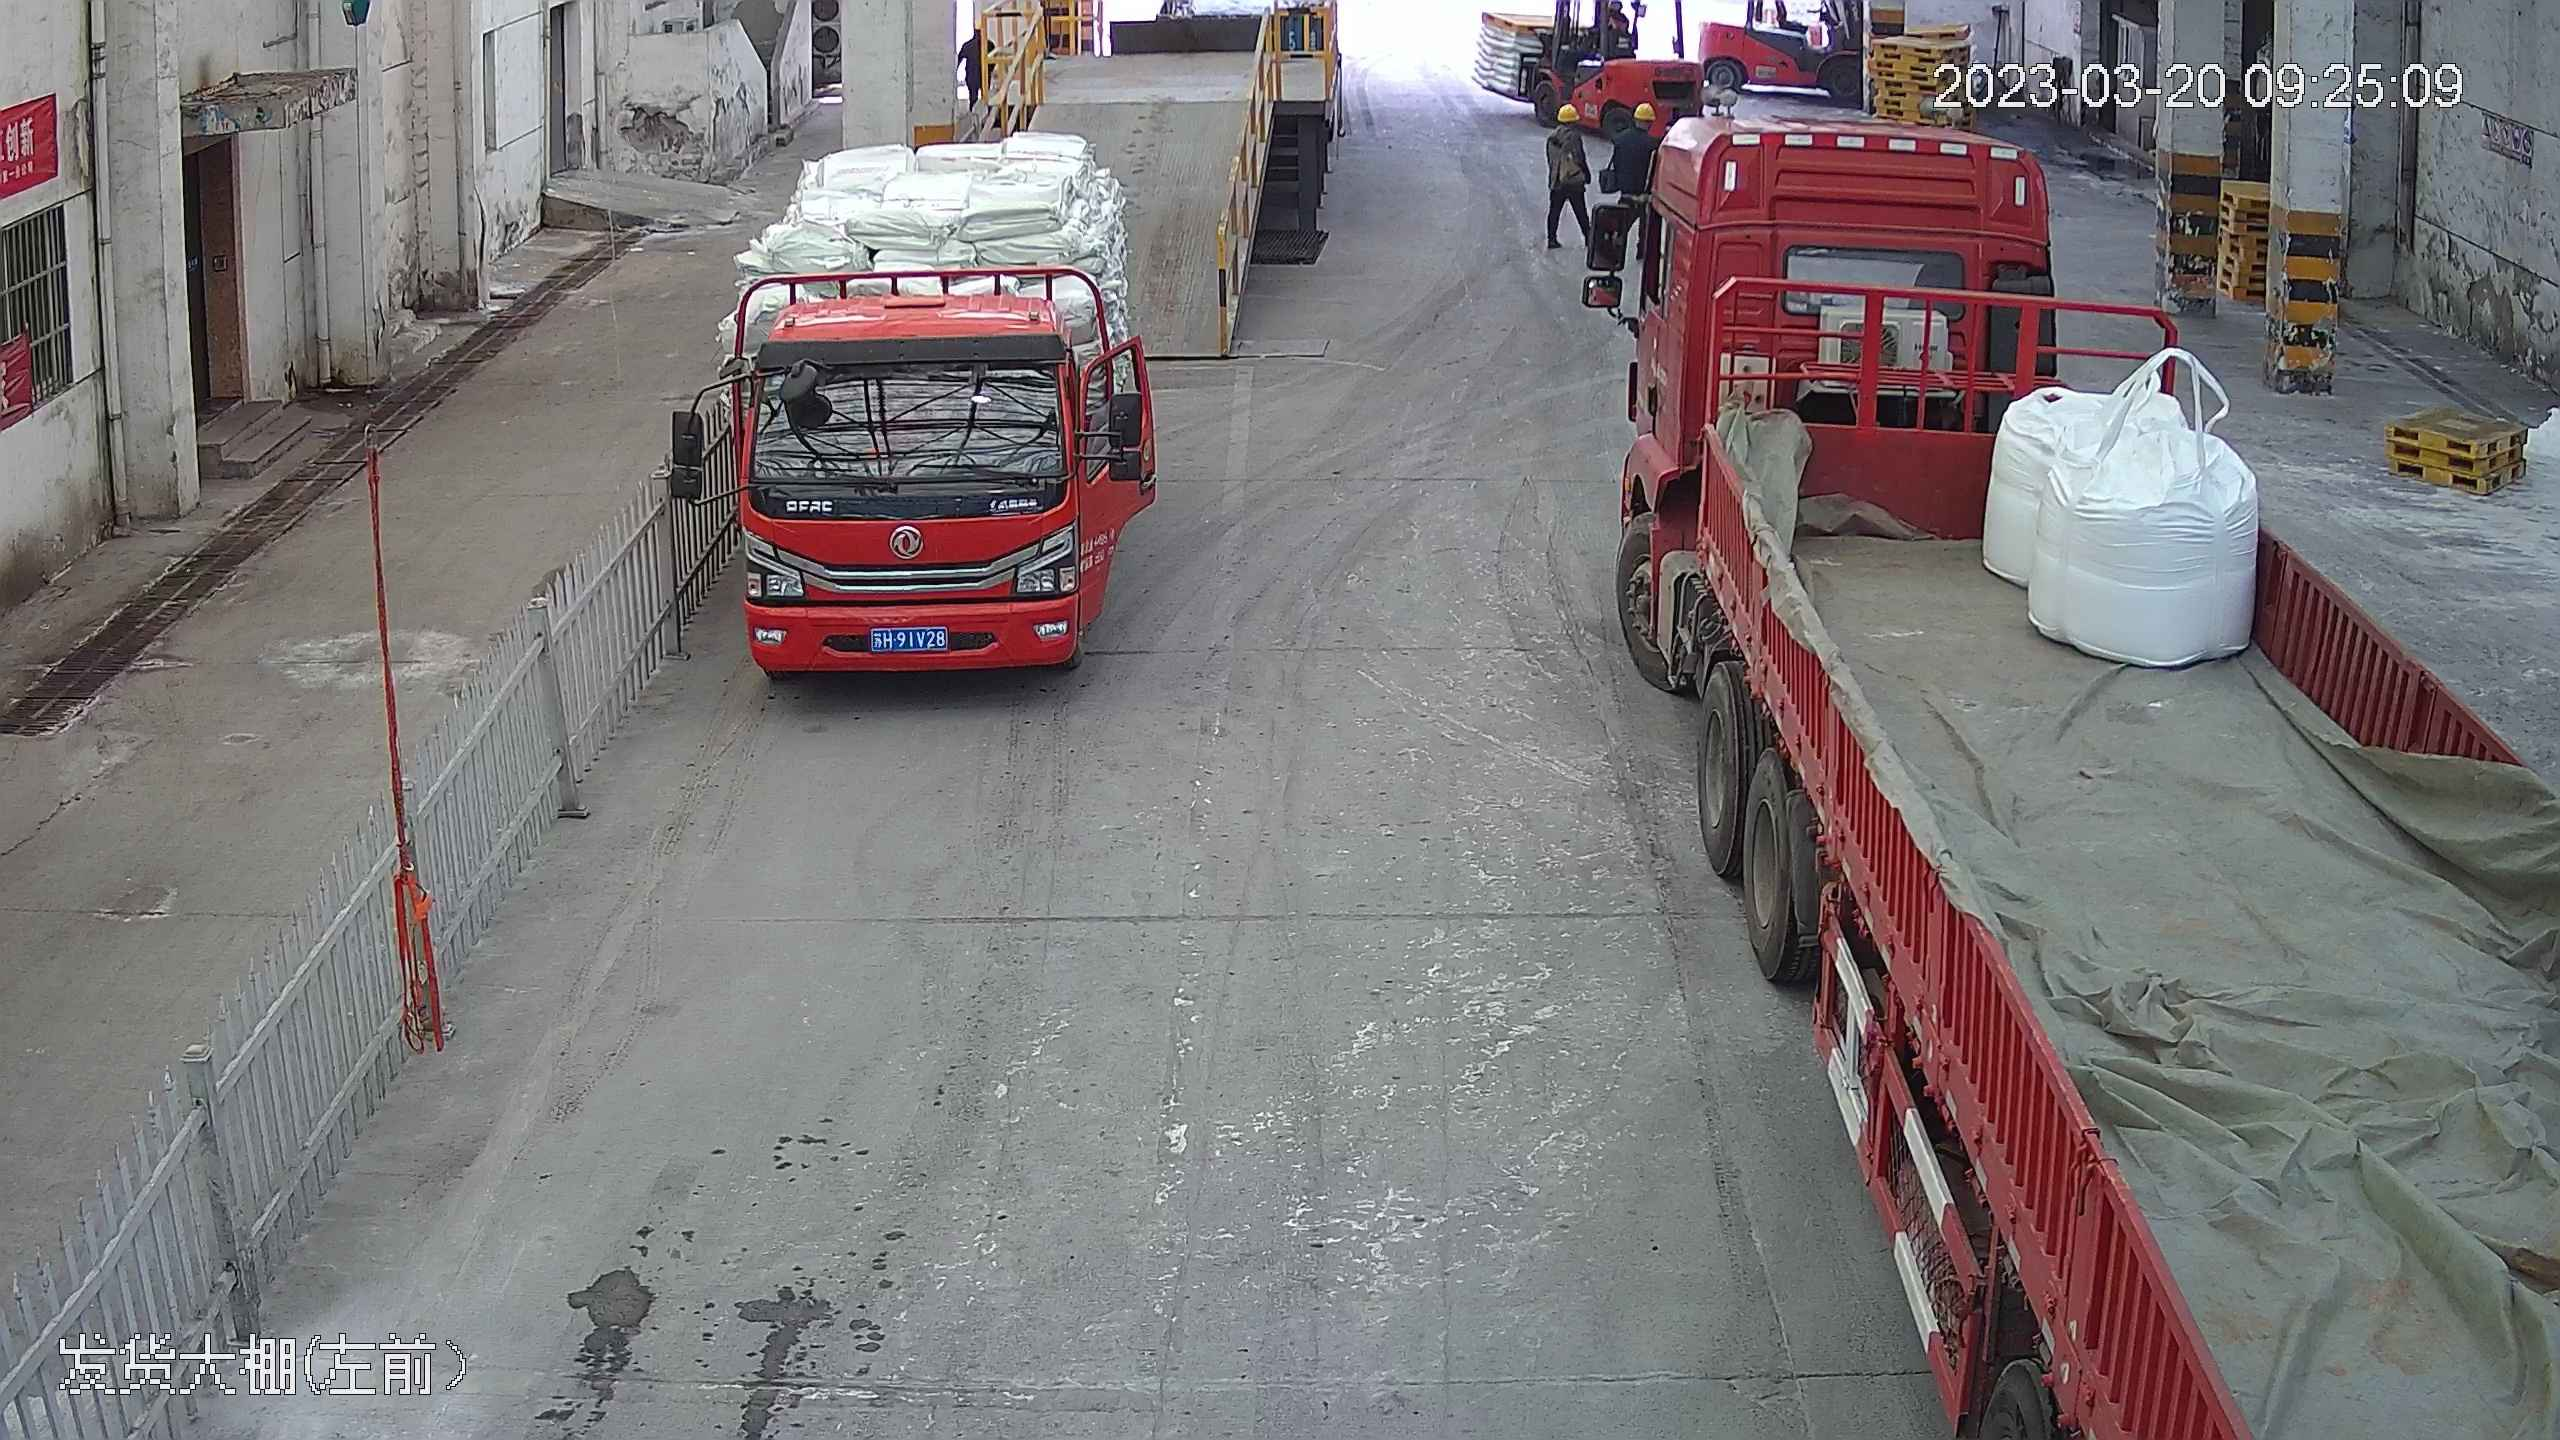head: (1550, 104, 1590, 154), (1621, 104, 1657, 154)
helmet: (1633, 104, 1654, 124), (1556, 103, 1578, 122)
people: (1544, 99, 1589, 261)
truck: (1602, 89, 2557, 1440), (699, 27, 1174, 696)
